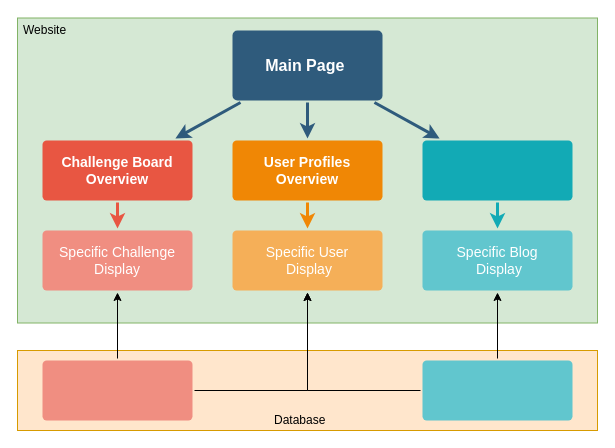
The diagram is 615 pixels wide and 448 high, and some of its shapes have lost their labels. Here are the shapes that lost their labels. From the top down, the box of each, then its label:
(422, 140, 572, 200): Blog Page Overview
(42, 360, 192, 420): Challenge Database
(422, 360, 572, 420): Blog Database
